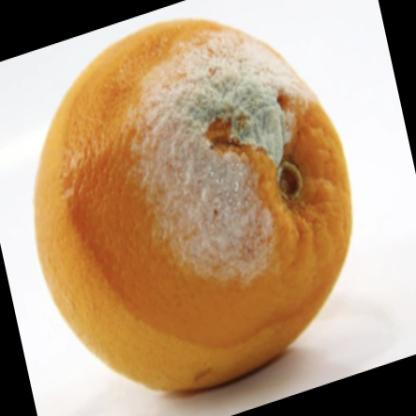rotten: (35, 21, 354, 394)
